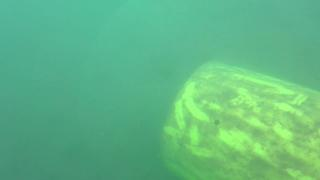pipe: (157, 61, 320, 180)
